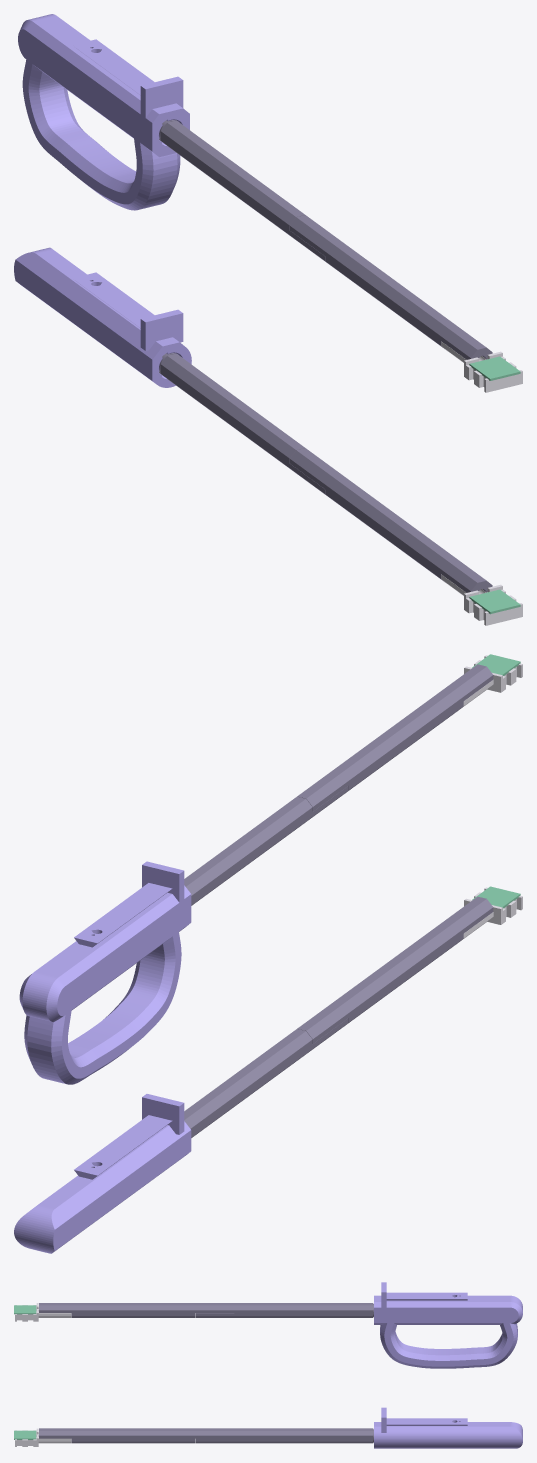
Rendered from assembly.glb.
The picture shows the model from 3 angles, top to bottom: view 1: azimuth 30°, elevation 25°; view 2: azimuth 150°, elevation 25°; view 3: azimuth 270°, elevation 25°; orthographic projection. The views are drawn at different scales.
Parts seen in each view (by area): view 1: xiao-mug/handle-oval, xiao-plain/handle-straight, xiao-mug/shaft-upper, xiao-plain/shaft-upper, xiao-mug/shaft-lower, xiao-plain/shaft-lower, xiao-plain/tip-xiao, xiao-mug/tip-xiao, xiao-plain/xiao-board-reference, xiao-mug/xiao-board-reference; view 2: xiao-mug/handle-oval, xiao-plain/handle-straight, xiao-plain/shaft-upper, xiao-mug/shaft-upper, xiao-plain/shaft-lower, xiao-mug/shaft-lower, xiao-mug/tip-xiao, xiao-plain/tip-xiao; view 3: xiao-mug/handle-oval, xiao-plain/handle-straight, xiao-plain/shaft-upper, xiao-mug/shaft-upper, xiao-plain/shaft-lower, xiao-mug/shaft-lower, xiao-plain/tip-xiao, xiao-mug/tip-xiao, xiao-plain/xiao-board-reference, xiao-mug/xiao-board-reference.
Part boxes in pixels (bbox=[...]): xiao-mug/handle-oval: bbox=[18, 14, 189, 210]; xiao-plain/handle-straight: bbox=[14, 247, 191, 387]; xiao-mug/shaft-upper: bbox=[290, 215, 492, 359]; xiao-plain/shaft-upper: bbox=[290, 448, 492, 592]; xiao-mug/shaft-lower: bbox=[159, 120, 330, 265]; xiao-plain/shaft-lower: bbox=[159, 353, 329, 497]; xiao-plain/tip-xiao: bbox=[441, 574, 522, 625]; xiao-mug/tip-xiao: bbox=[441, 341, 522, 392]; xiao-plain/xiao-board-reference: bbox=[469, 589, 520, 614]; xiao-mug/xiao-board-reference: bbox=[469, 356, 520, 380]; xiao-mug/handle-oval: bbox=[19, 861, 191, 1084]; xiao-plain/handle-straight: bbox=[14, 1094, 191, 1253]; xiao-plain/shaft-upper: bbox=[297, 896, 493, 1043]; xiao-mug/shaft-upper: bbox=[297, 664, 493, 811]; xiao-plain/shaft-lower: bbox=[184, 1018, 348, 1137]; xiao-mug/shaft-lower: bbox=[184, 786, 348, 905]; xiao-mug/tip-xiao: bbox=[461, 655, 522, 708]; xiao-plain/tip-xiao: bbox=[460, 887, 522, 941]; xiao-mug/handle-oval: bbox=[374, 1282, 522, 1368]; xiao-plain/handle-straight: bbox=[374, 1407, 522, 1448]; xiao-plain/shaft-upper: bbox=[39, 1428, 234, 1443]; xiao-mug/shaft-upper: bbox=[39, 1303, 234, 1317]; xiao-plain/shaft-lower: bbox=[196, 1428, 373, 1443]; xiao-mug/shaft-lower: bbox=[196, 1303, 373, 1317]; xiao-plain/tip-xiao: bbox=[15, 1428, 70, 1446]; xiao-mug/tip-xiao: bbox=[15, 1303, 70, 1321]; xiao-plain/xiao-board-reference: bbox=[14, 1430, 36, 1439]; xiao-mug/xiao-board-reference: bbox=[14, 1305, 36, 1314].
Bounding box in the file's own units: 0.023 × 0.166 × 0.4779.
